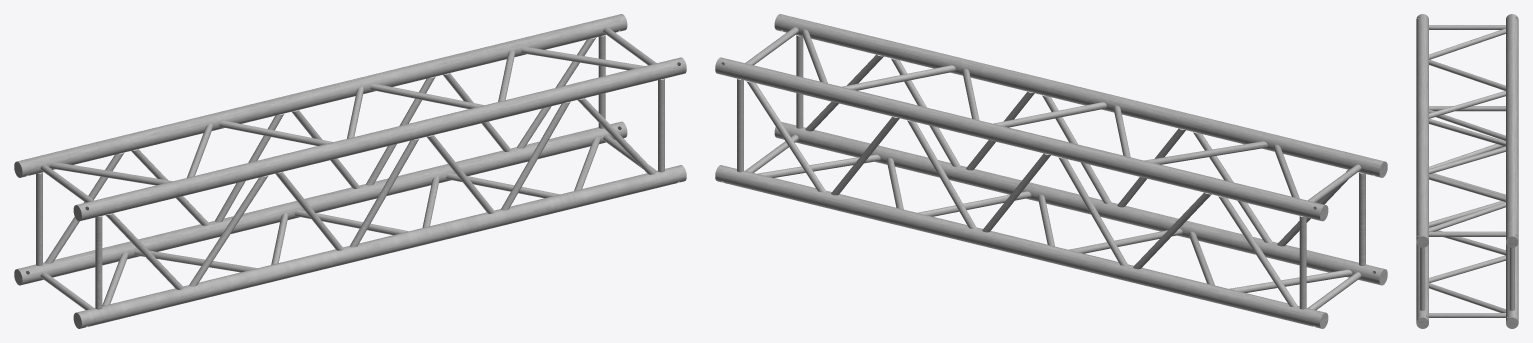
File: Milos_M390L_2000_Quattro_Truss_Section-2066351a.glb
3 renders of one model, left to right at view 1: azimuth 30°, elevation 25°; view 2: azimuth 150°, elevation 25°; view 3: azimuth 270°, elevation 25°, orthographic. The views are drawn at different scales.
Parts seen in each view (by area): view 1: Geom3D; view 2: Geom3D; view 3: Geom3D.
Boxes of the visible parts, left/top/right/bottom form: Geom3D: left=14, top=14, right=686, bottom=328; Geom3D: left=715, top=14, right=1387, bottom=328; Geom3D: left=1416, top=14, right=1518, bottom=328.
Size of the model in its own units: 2 by 0.388 by 0.388.
2 materials, 1 textured.
